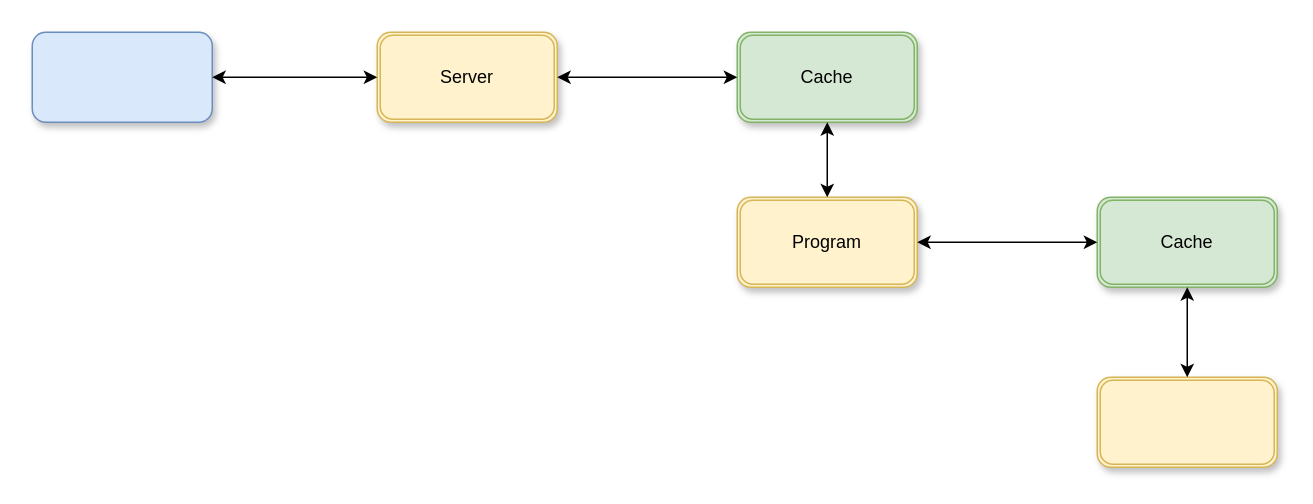
The diagram is 1313 pixels wide and 504 high, and some of its shapes have lost their labels. The shapes that lost their labels are listed below. From the top down, each one's centre as x and y in pixels, then its label:
At (x=123, y=79): "Browser".
At (x=1188, y=424): "Database".
